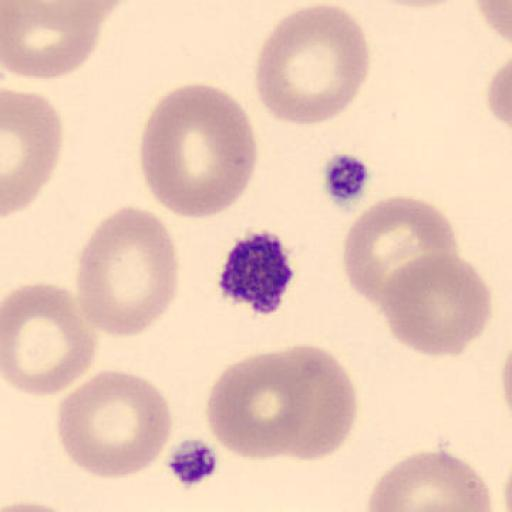Platelet: (216, 227, 296, 317), (320, 151, 374, 207), (166, 436, 221, 489)
RBC: (140, 82, 260, 218), (254, 1, 372, 127), (75, 204, 181, 339), (341, 194, 463, 310), (56, 368, 174, 480), (377, 251, 493, 358), (204, 347, 311, 461), (2, 281, 99, 397), (265, 344, 359, 461), (364, 448, 494, 512), (1, 87, 64, 218), (1, 0, 103, 80), (486, 54, 512, 130), (55, 0, 128, 24), (473, 0, 512, 42), (369, 0, 467, 10), (0, 500, 81, 512), (500, 340, 512, 419)
